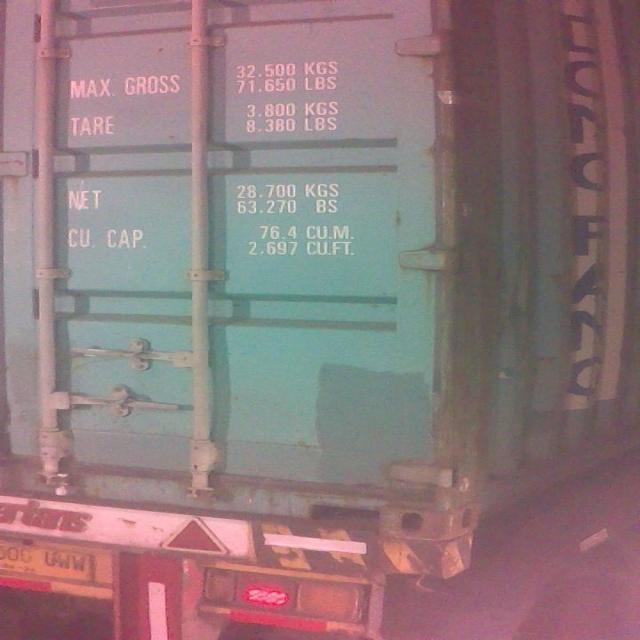seal: (46, 470, 78, 502)
